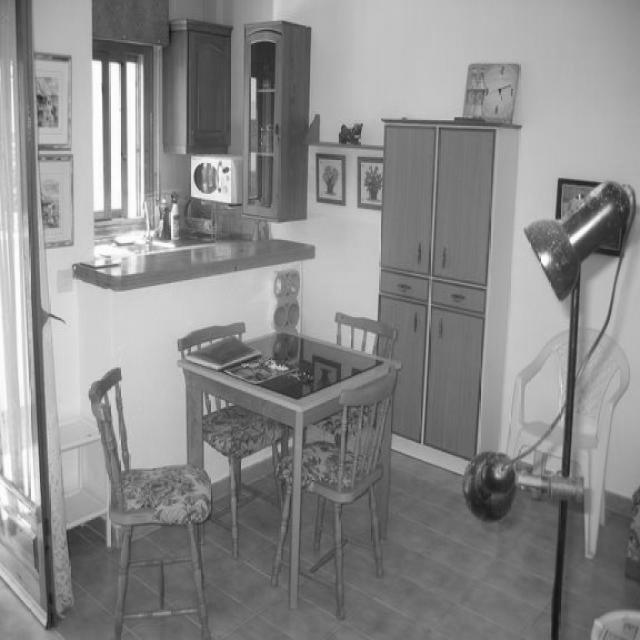chair: (84, 364, 214, 638), (270, 372, 402, 615), (172, 314, 283, 554)
table: (178, 312, 402, 610)
